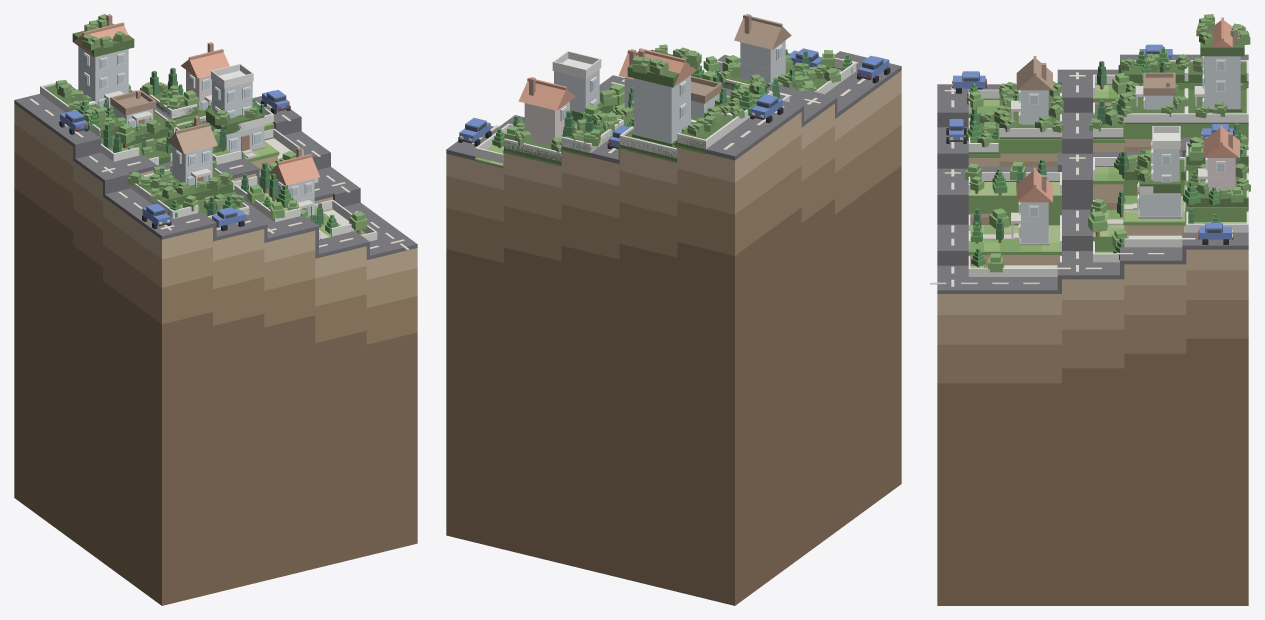
File: block_4_greenroof_0.glb
3 views of the same model, side by side, from view 1: azimuth 30°, elevation 25°; view 2: azimuth 150°, elevation 25°; view 3: azimuth 270°, elevation 25° (orthographic). The views are drawn at different scales.
Visible parts, largest first — view 1: Patch_UpperLeft_b03_GR, Bungalows_UpperLeft_b03_GR, Roads_UpperLeft_b03_GR, GR_Roof_Bungalows_UpperLeft_b03_GR, RoadMarks_UpperLeft_b03_GR, LawnSkirt_UpperLeft_b03_GR, ULCar_003_GR; view 2: Patch_UpperLeft_b03_GR, Bungalows_UpperLeft_b03_GR, Roads_UpperLeft_b03_GR, GR_Roof_Bungalows_UpperLeft_b03_GR, ULCar_014_GR, ULCar_010_GR, ULCar_015_GR; view 3: Patch_UpperLeft_b03_GR, Bungalows_UpperLeft_b03_GR, Roads_UpperLeft_b03_GR, LawnSkirt_UpperLeft_b03_GR, GR_Roof_Bungalows_UpperLeft_b03_GR, RoadMarks_UpperLeft_b03_GR, ULCar_010_GR, ULCar_015_GR, ULCar_003_GR.
Boxes of the visible parts, <box> form: Patch_UpperLeft_b03_GR: <box>14,104,417,605</box>; Bungalows_UpperLeft_b03_GR: <box>40,14,377,241</box>; Roads_UpperLeft_b03_GR: <box>14,94,417,259</box>; GR_Roof_Bungalows_UpperLeft_b03_GR: <box>44,23,264,216</box>; RoadMarks_UpperLeft_b03_GR: <box>29,98,409,249</box>; LawnSkirt_UpperLeft_b03_GR: <box>101,114,340,225</box>; ULCar_003_GR: <box>212,207,246,230</box>; Patch_UpperLeft_b03_GR: <box>446,70,901,605</box>; Bungalows_UpperLeft_b03_GR: <box>475,14,856,168</box>; Roads_UpperLeft_b03_GR: <box>446,51,901,163</box>; GR_Roof_Bungalows_UpperLeft_b03_GR: <box>504,49,827,165</box>; ULCar_014_GR: <box>750,94,783,123</box>; ULCar_010_GR: <box>458,118,491,146</box>; ULCar_015_GR: <box>857,55,890,83</box>; Patch_UpperLeft_b03_GR: <box>937,86,1248,605</box>; Bungalows_UpperLeft_b03_GR: <box>968,17,1248,276</box>; Roads_UpperLeft_b03_GR: <box>937,54,1248,293</box>; LawnSkirt_UpperLeft_b03_GR: <box>968,83,1248,254</box>; GR_Roof_Bungalows_UpperLeft_b03_GR: <box>968,26,1248,208</box>; RoadMarks_UpperLeft_b03_GR: <box>930,72,1195,286</box>; ULCar_010_GR: <box>1198,222,1233,244</box>; ULCar_015_GR: <box>952,71,986,93</box>; ULCar_003_GR: <box>946,119,966,143</box>.
Bounding box in the file's own units: 9.5 × 16.52 × 9.79.
